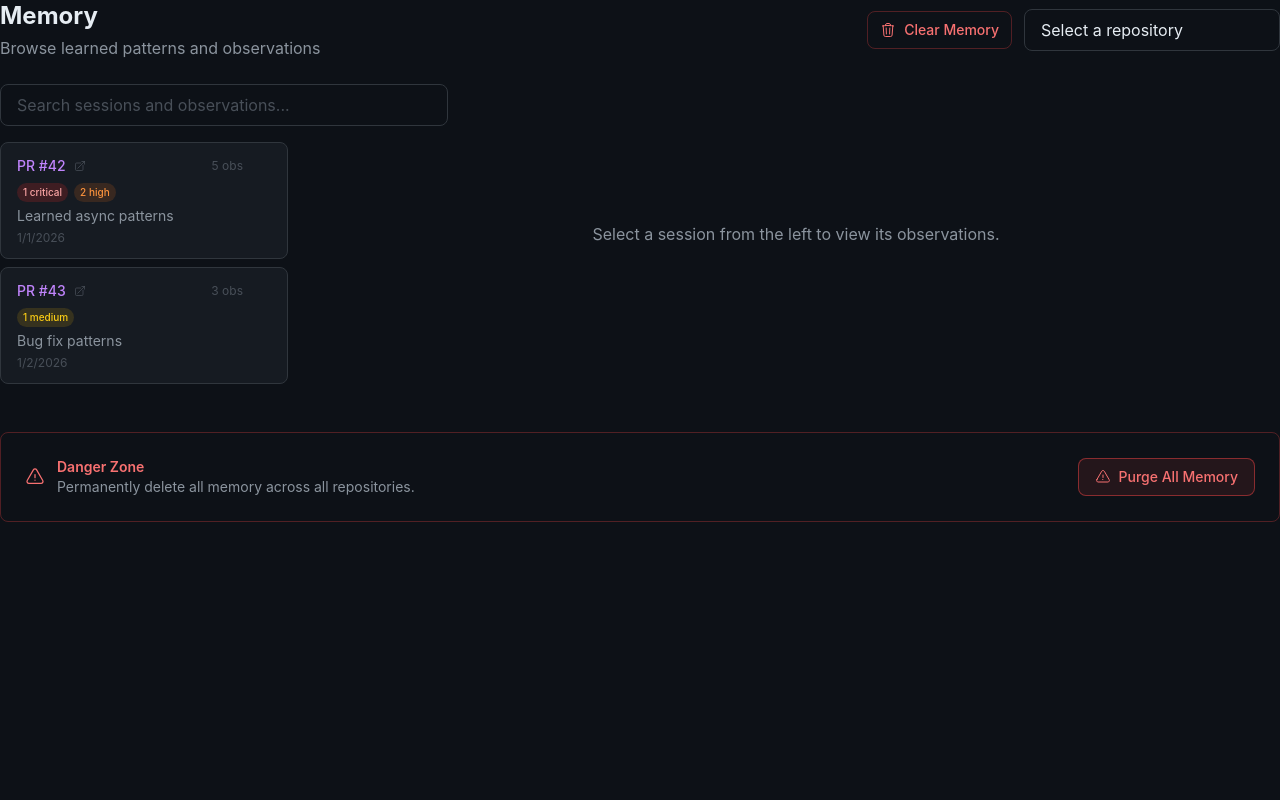
it: Memory page — Tier 2 (clear repo memory) › confirm button is disabled until text matches repo name
Step 1. Click the button "Clear Memory" → [940, 30], box [867,11,1012,49]
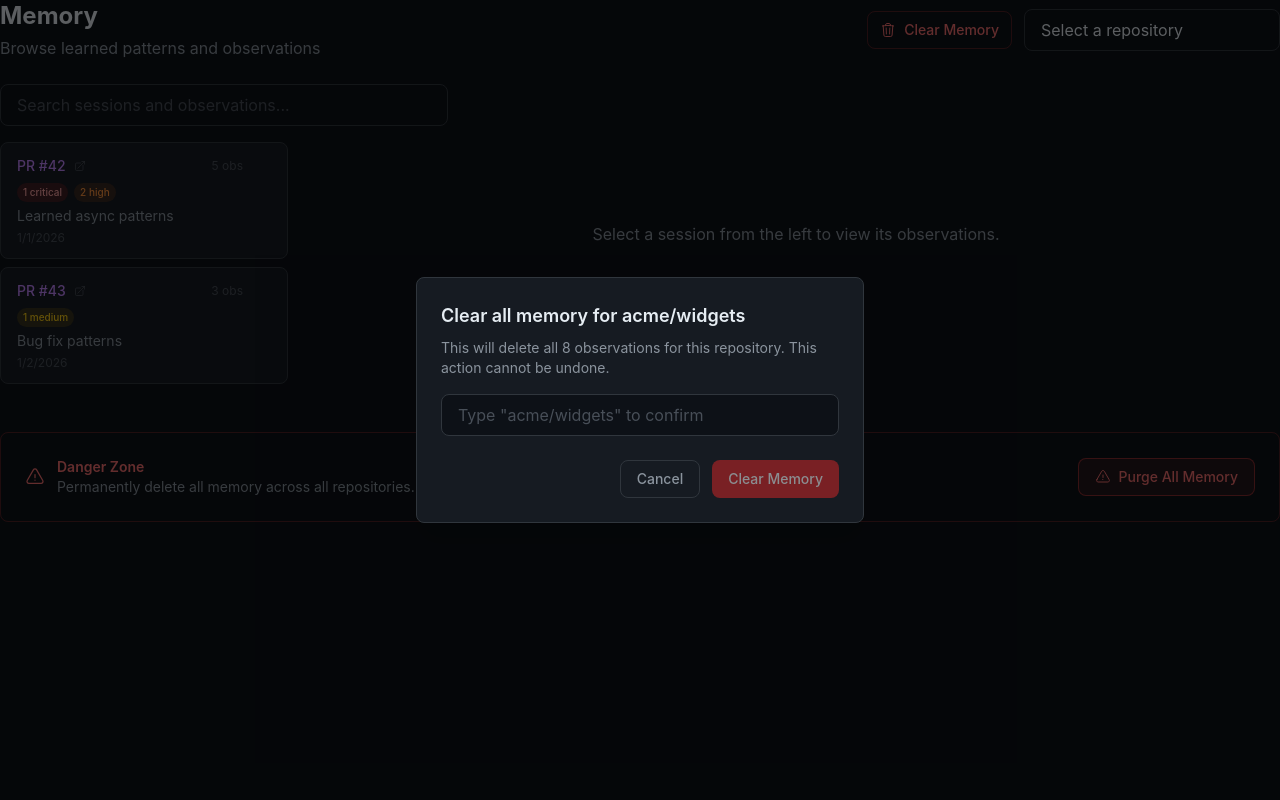
Now the button "Clear Memory" is disabled, box [712,460,839,498]
Note: Type wrong text
Step 2. Type "wrong" into the field named "Confirmation text" → [640, 415], box [441,394,839,436]
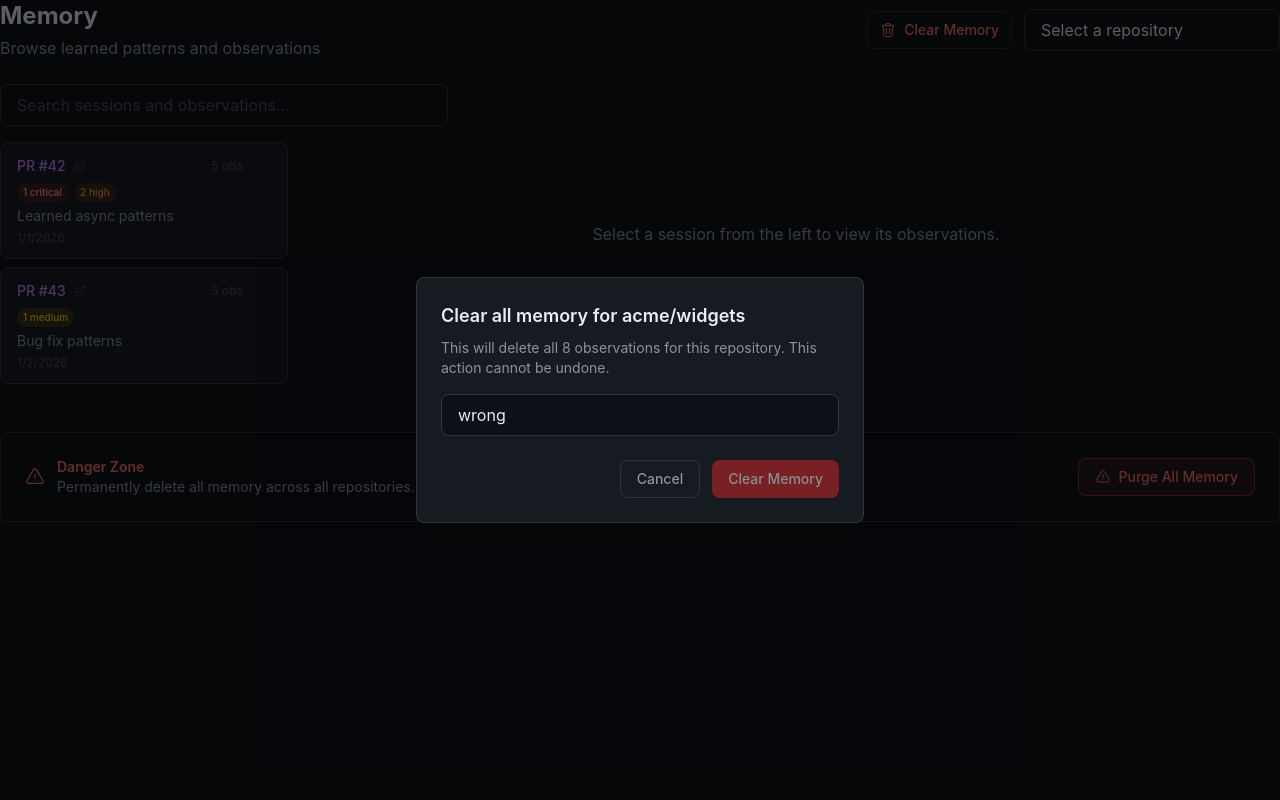
Now the button "Clear Memory" is disabled, box [712,460,839,498]
Note: Type correct text
Step 3. Replace the text in the field named "Confirmation text" with "acme/widgets" → [640, 415], box [441,394,839,436]
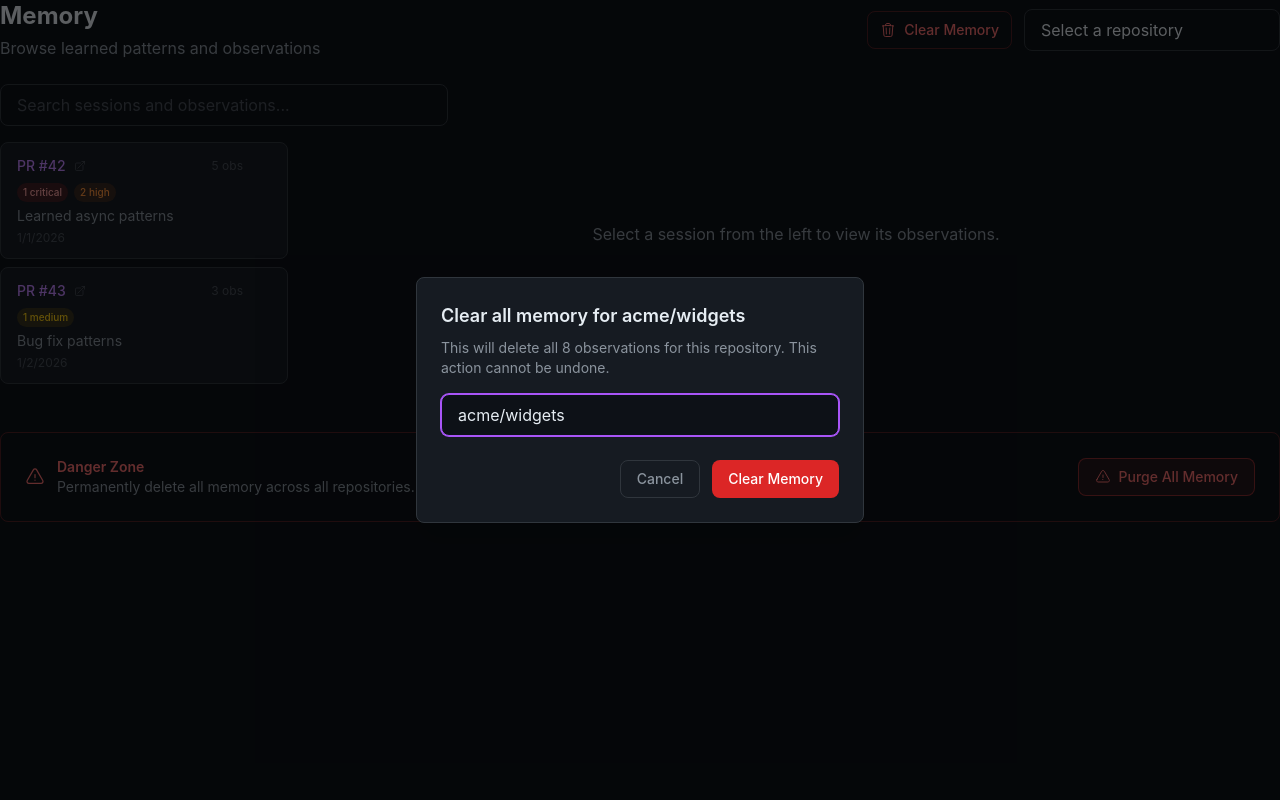
Now the button "Clear Memory" is enabled, box [712,460,839,498]
